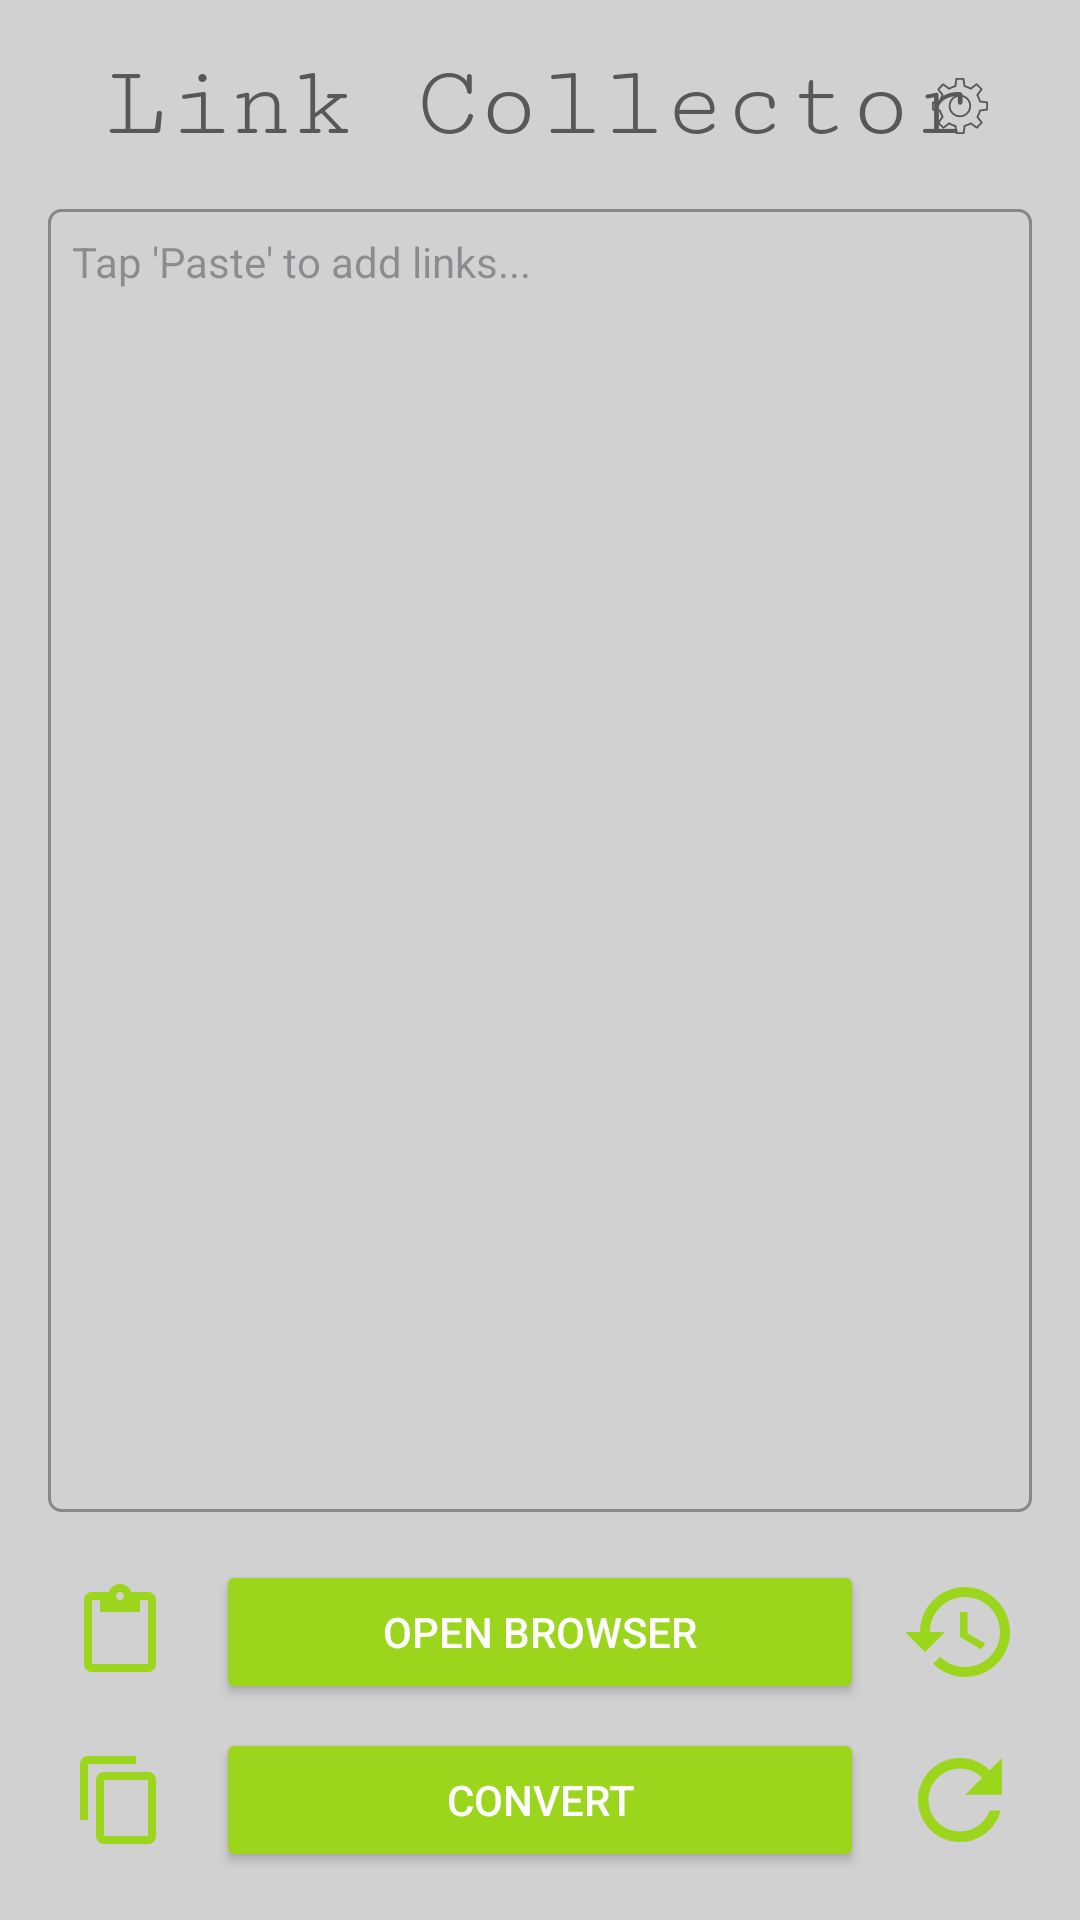

Screen size 1080 × 1920. Icon name, then its box in pixels as (x1=x1, y1=y1, x2=x2, y2=y2):
history: (x1=905, y1=1587, x2=1010, y2=1677)
refresh: (x1=918, y1=1758, x2=1002, y2=1842)
